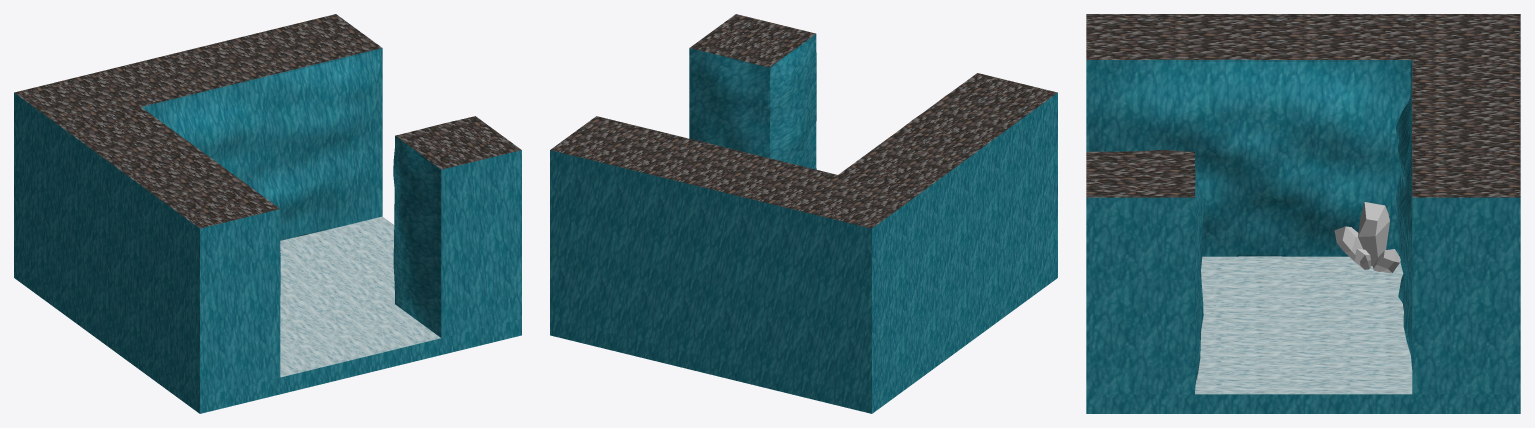
File: Tile_Corner_Ice_v6.fbx
3 renders of one model, left to right at view 1: azimuth 30°, elevation 25°; view 2: azimuth 150°, elevation 25°; view 3: azimuth 270°, elevation 25°, orthographic. The views are drawn at different scales.
Parts seen in each view (by area): view 1: TileCorner; view 2: TileCorner; view 3: TileCorner.
Part boxes in pixels (box(x1,y1,x2,y2)): TileCorner: box(14, 14, 521, 413); TileCorner: box(550, 14, 1057, 413); TileCorner: box(1086, 14, 1520, 413).
Bounding box in the file's own units: 2000 × 1108 × 2001.
